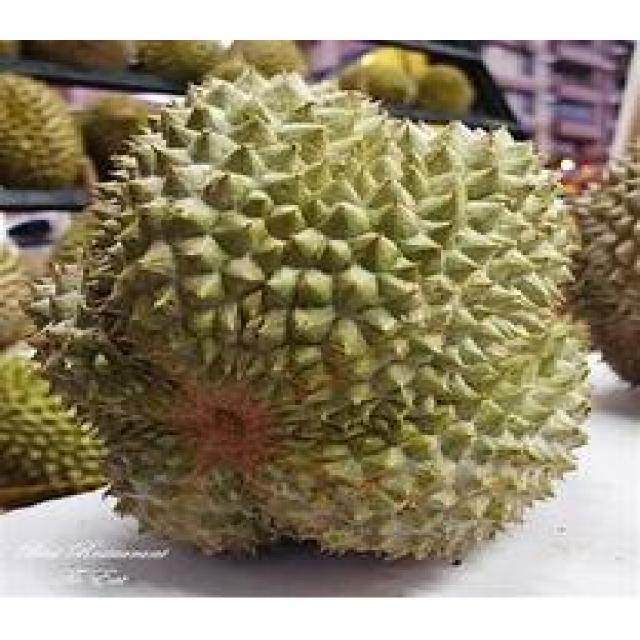fruit: (0, 197, 354, 595), (271, 238, 637, 598), (0, 60, 95, 210)
